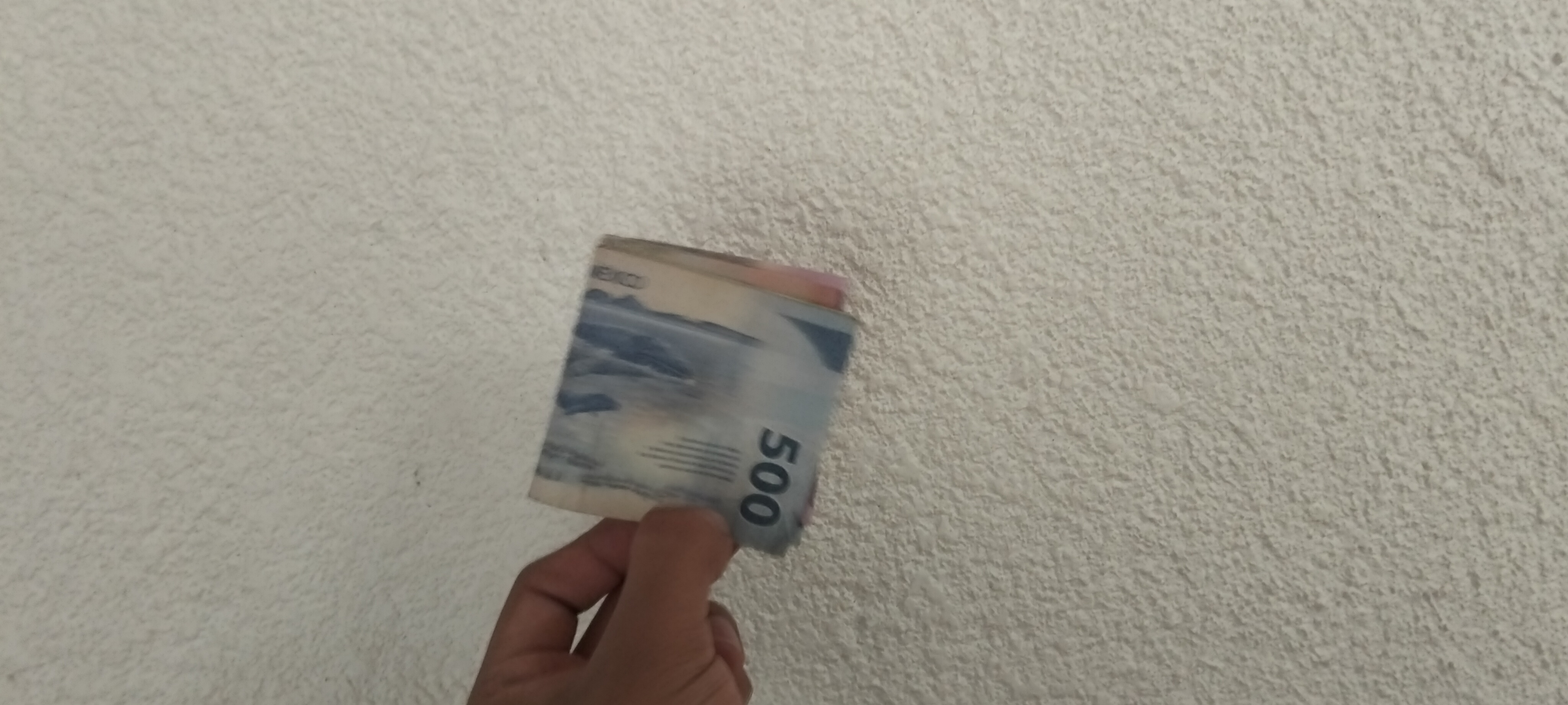billetes: (514, 205, 889, 577)
